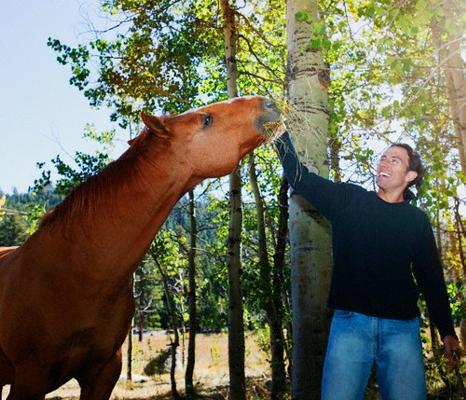person: (273, 116, 464, 400)
